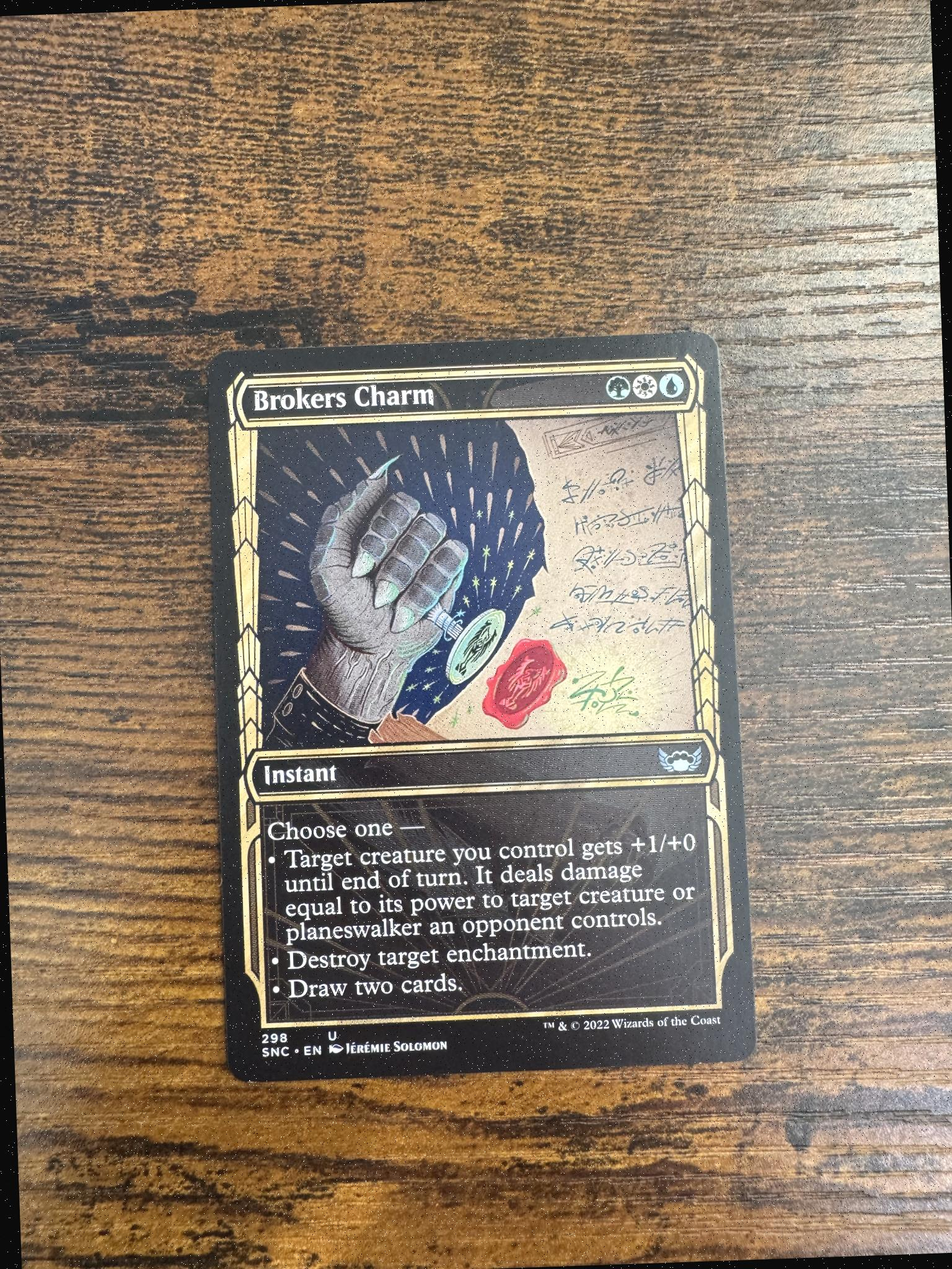card-2UtV: (207, 331, 755, 1082)
